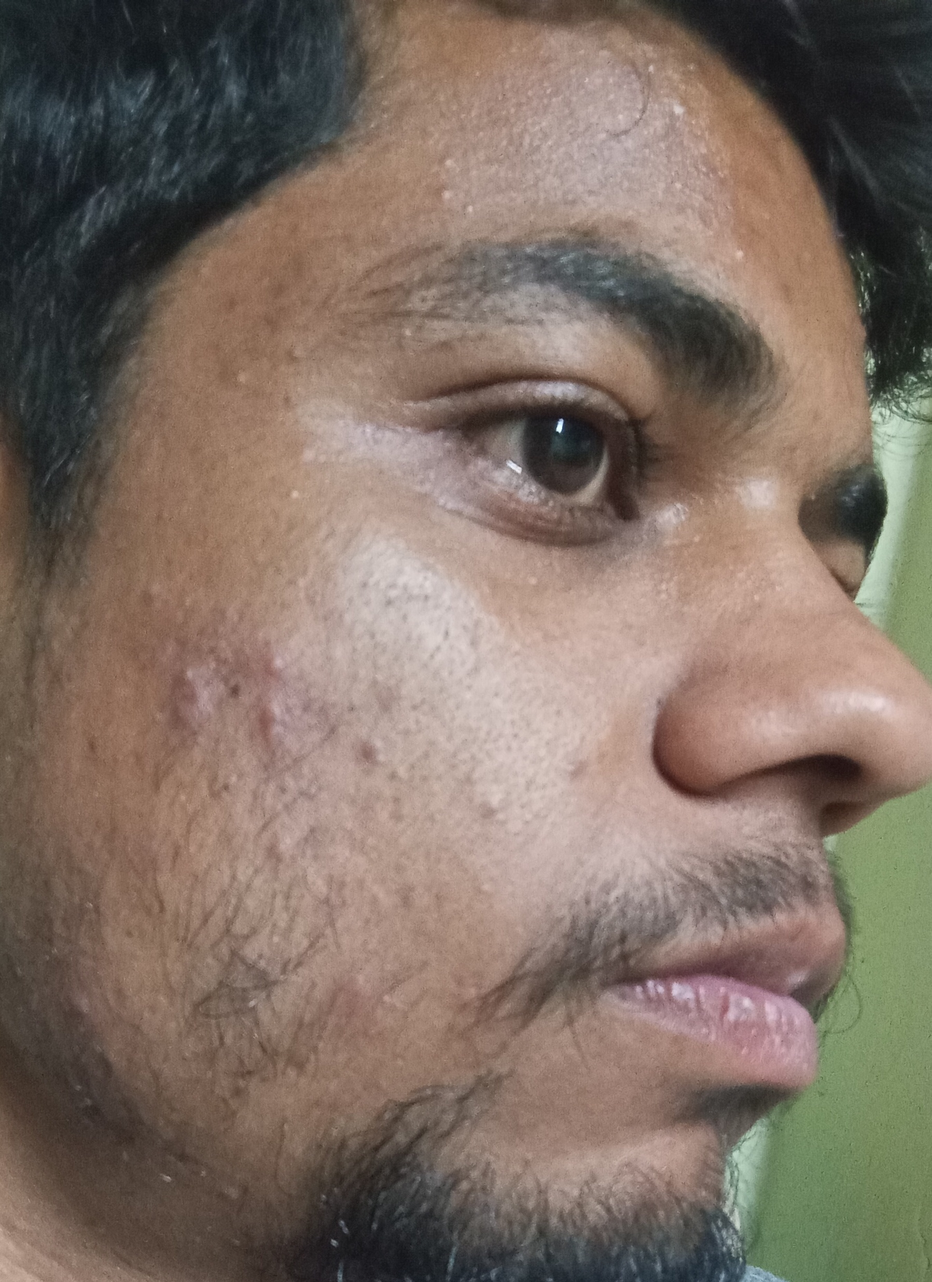closed_comedone: (335, 732, 432, 808), (223, 334, 271, 417), (254, 643, 312, 696)
papule: (140, 641, 233, 755), (553, 734, 627, 812), (466, 776, 525, 863)
pustule: (421, 140, 506, 231)
